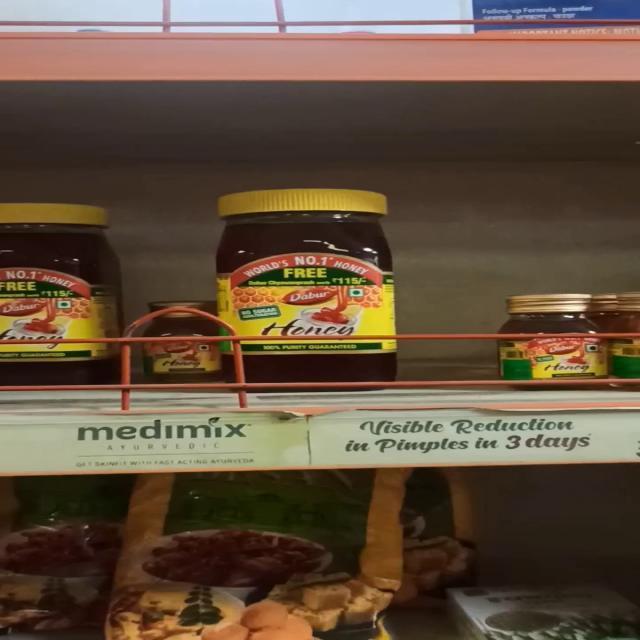Dabur Honey: (207, 188, 412, 390), (482, 288, 610, 395)
